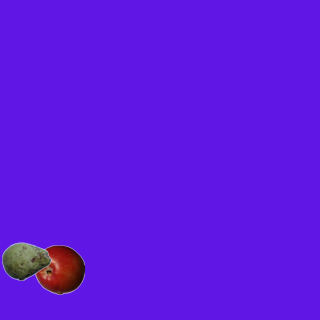Apple Braeburn: (34, 244, 84, 294)
Pear Stone: (1, 236, 51, 286)
